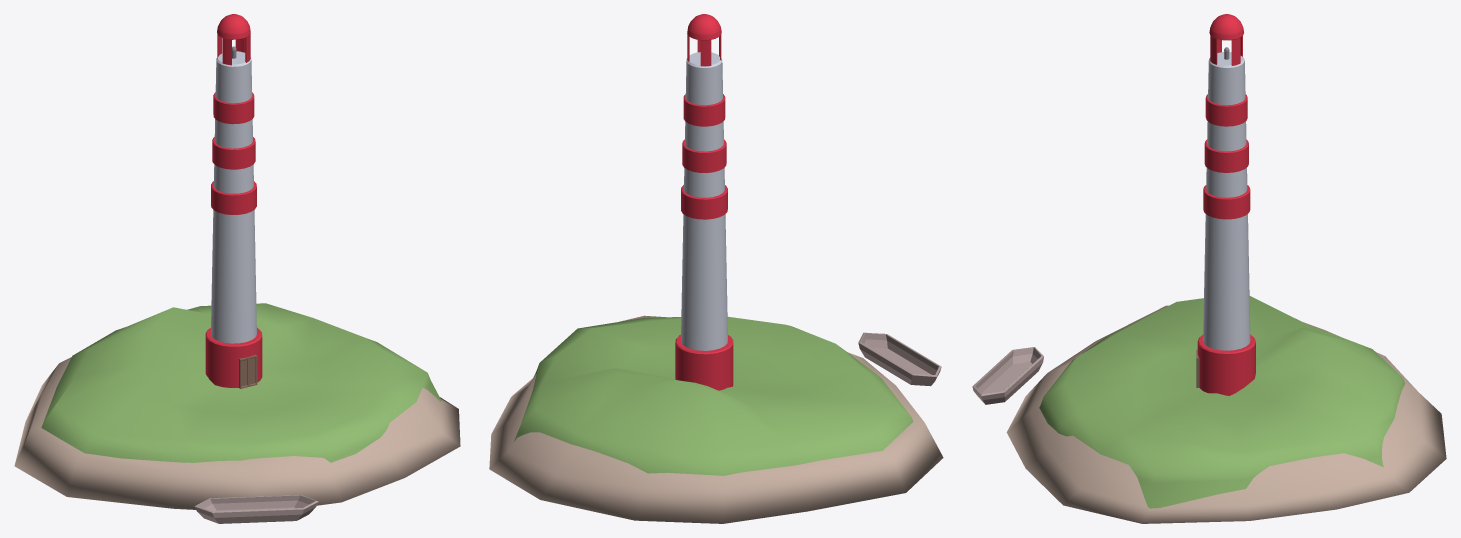
The model's file is lighthouse 1.fbx.
3 views of the same model, side by side, from view 1: azimuth 30°, elevation 25°; view 2: azimuth 150°, elevation 25°; view 3: azimuth 270°, elevation 25° (orthographic). The views are drawn at different scales.
Parts seen in each view (by area): view 1: LightHouse_Low_Poly_Scene; view 2: LightHouse_Low_Poly_Scene; view 3: LightHouse_Low_Poly_Scene.
Boxes of the visible parts, bbox=[...] form: LightHouse_Low_Poly_Scene: bbox=[14, 14, 460, 523]; LightHouse_Low_Poly_Scene: bbox=[489, 14, 943, 523]; LightHouse_Low_Poly_Scene: bbox=[972, 14, 1446, 523].
Bounding box in the file's own units: 1406 × 1407 × 1442.
